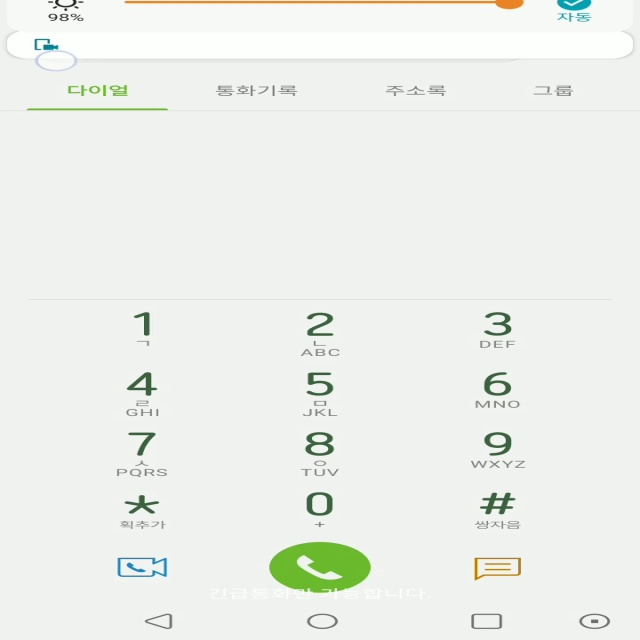Cursor: (33, 50, 78, 72)
